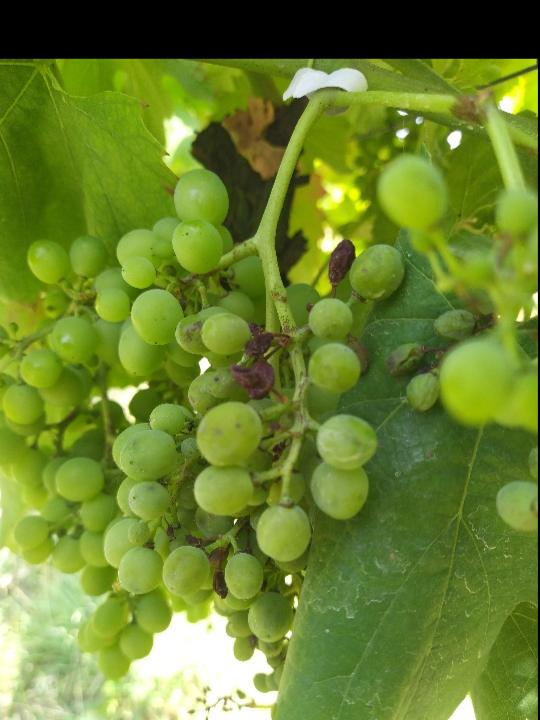grape: (114, 164, 414, 644)
